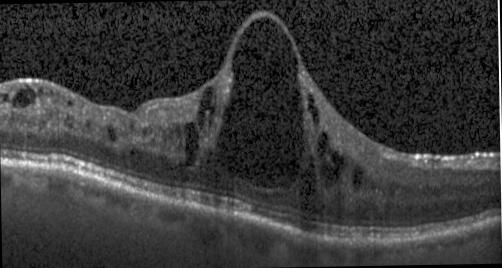intraretinal_cyst: (217, 17, 305, 188), (299, 159, 325, 216), (321, 151, 344, 188), (197, 87, 214, 130), (186, 124, 198, 165), (13, 88, 35, 108), (307, 93, 319, 125), (314, 132, 328, 156), (352, 165, 363, 192), (108, 126, 116, 141), (1, 94, 9, 101), (142, 127, 148, 135), (67, 100, 72, 106), (130, 149, 135, 154), (129, 123, 133, 129), (209, 116, 211, 126), (50, 90, 53, 95), (86, 123, 89, 127), (39, 89, 41, 92)
